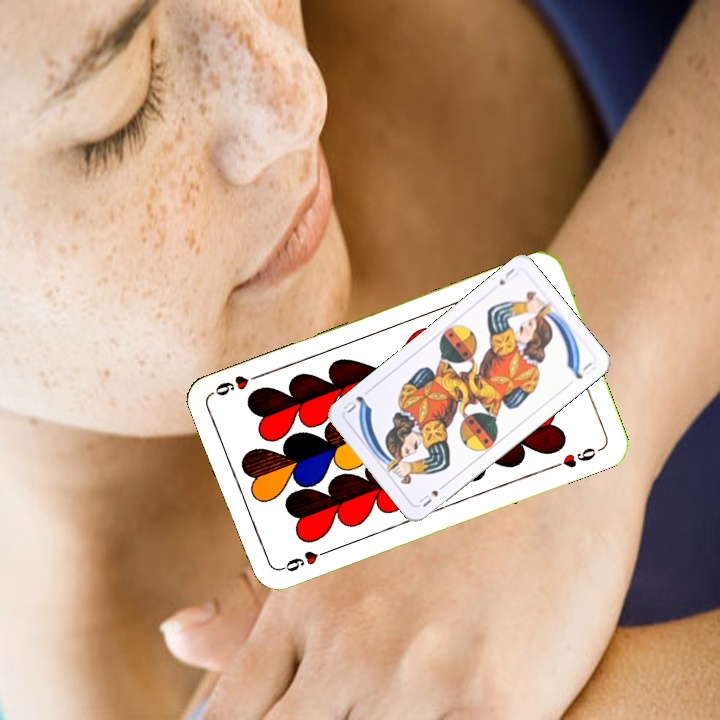H9: (276, 545, 333, 575)
SU: (414, 479, 449, 510), (495, 264, 521, 288)
